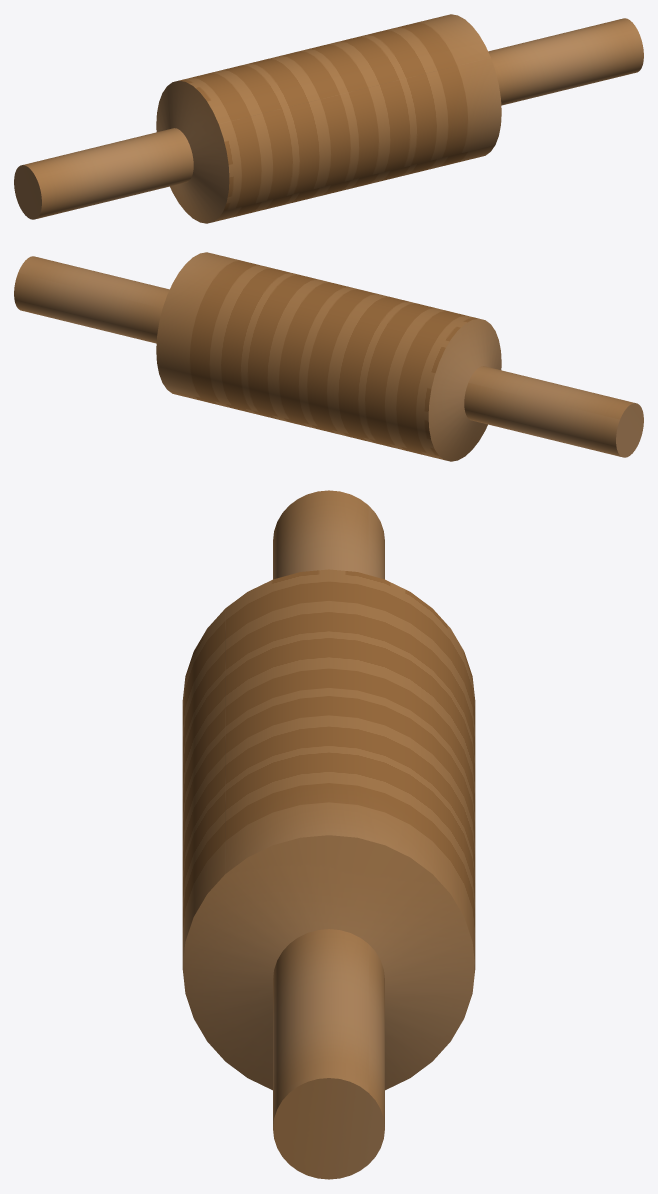
The model's file is cricket_bail.glb.
3 renders of one model, top to bottom at view 1: azimuth 30°, elevation 25°; view 2: azimuth 150°, elevation 25°; view 3: azimuth 270°, elevation 25°, orthographic. The views are drawn at different scales.
Parts seen in each view (by area): view 1: bail-col; view 2: bail-col; view 3: bail-col.
Boxes of the visible parts, x1,y1,x2,y2 form: bail-col: (14,14,643,223); bail-col: (14,252,643,461); bail-col: (182,490,475,1179).
Bounding box in the file's own units: 0.1234 × 0.026 × 0.026.
Materials: 1 (1 with a texture image).
